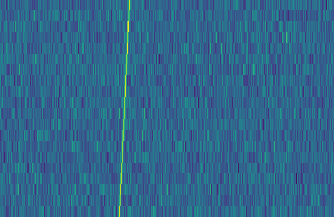signal: (113, 0, 132, 217)
